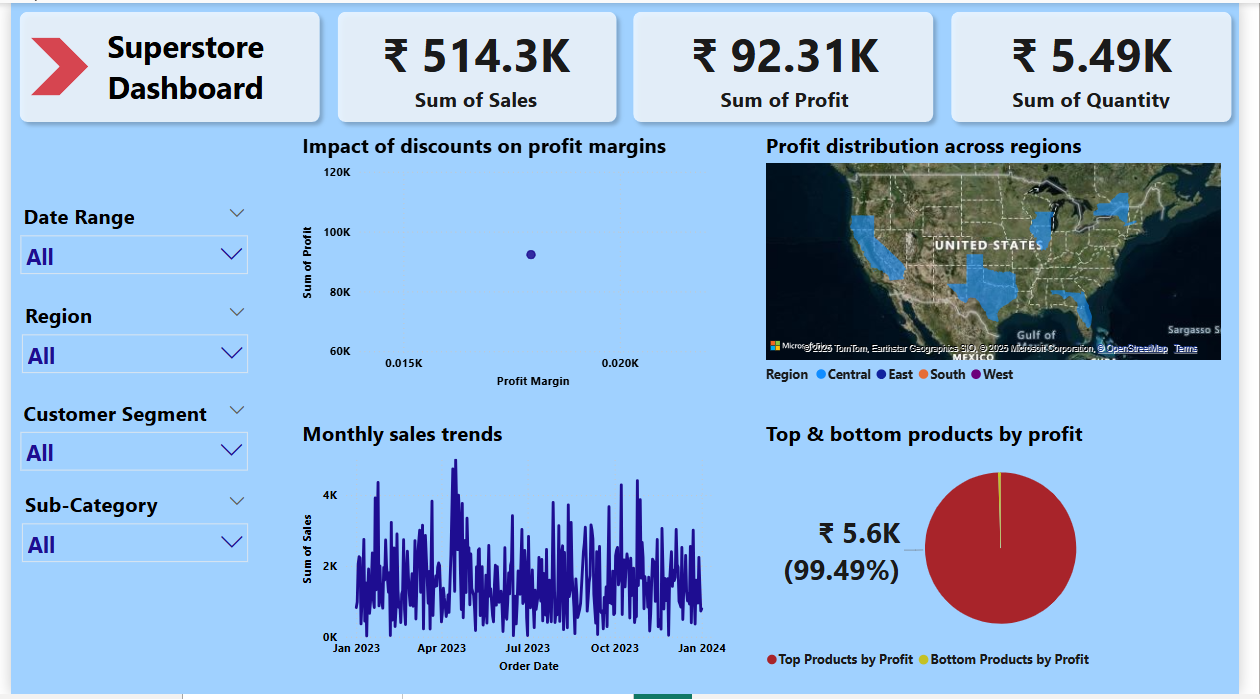

What the dashboard file says about the page in this screenshot:
{"tool":"powerbi","page":{"name":"Superstore Analysis","canvas":[1280,720],"ordinal":0},"visuals":[{"type":"shape","box":[0,0,330.7,133.1],"z":0},{"type":"shape","box":[330.7,0,308.7,133.1],"z":1000},{"type":"shape","box":[639.5,0,330.7,133.1],"z":2000},{"type":"shape","box":[970.2,0,310.1,133.1],"z":3000},{"type":"textbox","box":[96.1,16.5,223.7,97.4],"z":4000},{"type":"shape","box":[20.6,35.7,60.4,60.4],"z":5000},{"type":"card","fields":{"Values":["All Measures.Sum of Sales"]},"box":[343.1,16.5,284,97.4],"z":6000},{"type":"card","fields":{"Values":["All Measures.Sum of Profit"]},"box":[655.9,16.5,299.1,97.4],"z":7000},{"type":"card","fields":{"Values":["All Measures.Sum of Quantity"]},"box":[986.6,16.5,278.6,97.4],"z":8000},{"type":"slicer","fields":{"Values":["Sheet1.Region"]},"box":[18.8,282.9,254.8,101.6],"z":9000},{"type":"slicer","fields":{"Values":["Sheet1.Customer Segment"]},"box":[18.8,406.4,256.3,107.8],"z":10000},{"type":"slicer","fields":{"Values":["Sheet1.Sub-Category"]},"box":[20.3,568.9,254.8,103.2],"z":11000},{"type":"pieChart","title":"Top & bottom products by profit","fields":{"Y":["All Measures.Top Products by Profit","All Measures.Bottom Products by Profit"]},"box":[780.8,433.6,499.5,270.3],"z":12000},{"type":"lineChart","title":"Monthly sales trends","fields":{"Category":["Sheet1.Order Date"],"Y":["Sum(Sheet1.Sales Amount)"]},"box":[297.8,433.6,451.5,270.3],"z":13000},{"type":"filledMap","title":"Profit distribution across regions","fields":{"Series":["Sheet1.Region"],"Category":["Sheet1.State"]},"box":[781.5,148.5,483,268.8],"z":14000},{"type":"scatterChart","title":"Impact of discounts on profit margins","fields":{"X":["All Measures.Profit Margin"],"Y":["All Measures.Sum of Profit"]},"box":[298.5,148.5,450.1,257.9],"z":15000},{"type":"slicer","fields":{"Values":["Sheet1.Month Name"]},"box":[17.2,175.1,256.3,103.2],"z":16000},{"type":"shape","box":[0,114.1,1280.1,61],"z":16001},{"type":"shape","box":[287.6,406.4,992.5,26.6],"z":16002},{"type":"shape","box":[275.1,148.5,23.4,572.1],"z":16003},{"type":"shape","box":[758,148.5,23.4,572.1],"z":16004}]}

Visuals, with their boxes in screenshot pixels (x1, y1, x2, y2), scaled from the page's 1280x720 canvas onto the 1260x699 screenshot:
shape: <bbox>0, 0, 326, 129</bbox>
shape: <bbox>326, 0, 629, 129</bbox>
shape: <bbox>630, 0, 955, 129</bbox>
shape: <bbox>955, 0, 1259, 129</bbox>
textbox: <bbox>95, 16, 315, 111</bbox>
shape: <bbox>20, 35, 80, 93</bbox>
card - All Measures.Sum of Sales: <bbox>338, 16, 617, 111</bbox>
card - All Measures.Sum of Profit: <bbox>646, 16, 940, 111</bbox>
card - All Measures.Sum of Quantity: <bbox>971, 16, 1245, 111</bbox>
slicer - Sheet1.Region: <bbox>19, 275, 269, 373</bbox>
slicer - Sheet1.Customer Segment: <bbox>19, 395, 271, 499</bbox>
slicer - Sheet1.Sub-Category: <bbox>20, 552, 271, 652</bbox>
"Top & bottom products by profit" pieChart: <bbox>769, 421, 1259, 683</bbox>
"Monthly sales trends" lineChart: <bbox>293, 421, 738, 683</bbox>
"Profit distribution across regions" filledMap: <bbox>769, 144, 1245, 405</bbox>
"Impact of discounts on profit margins" scatterChart: <bbox>294, 144, 737, 395</bbox>
slicer - Sheet1.Month Name: <bbox>17, 170, 269, 270</bbox>
shape: <bbox>0, 111, 1259, 170</bbox>
shape: <bbox>283, 395, 1259, 420</bbox>
shape: <bbox>271, 144, 294, 698</bbox>
shape: <bbox>746, 144, 769, 698</bbox>
